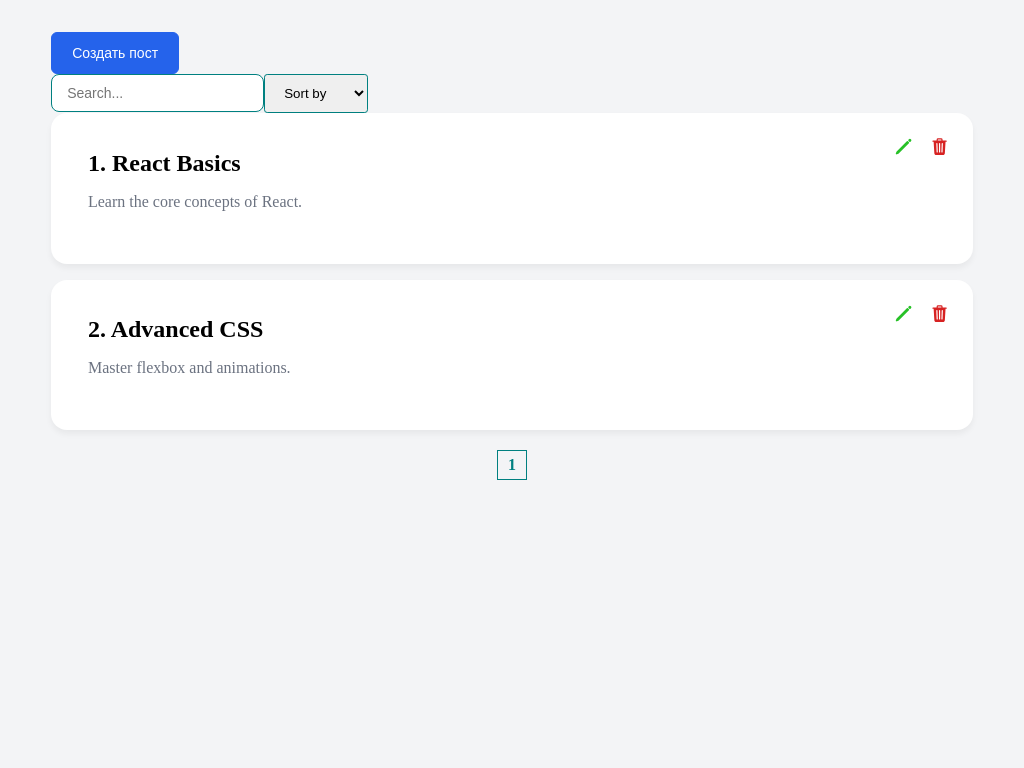
Test: Posts Component › opens modal and adds a new post
expect the heading "1. React Basics" is shown: met, box [88,150,241,176]
Click the button "Создать пост" at (115, 53), box [51,32,179,74]
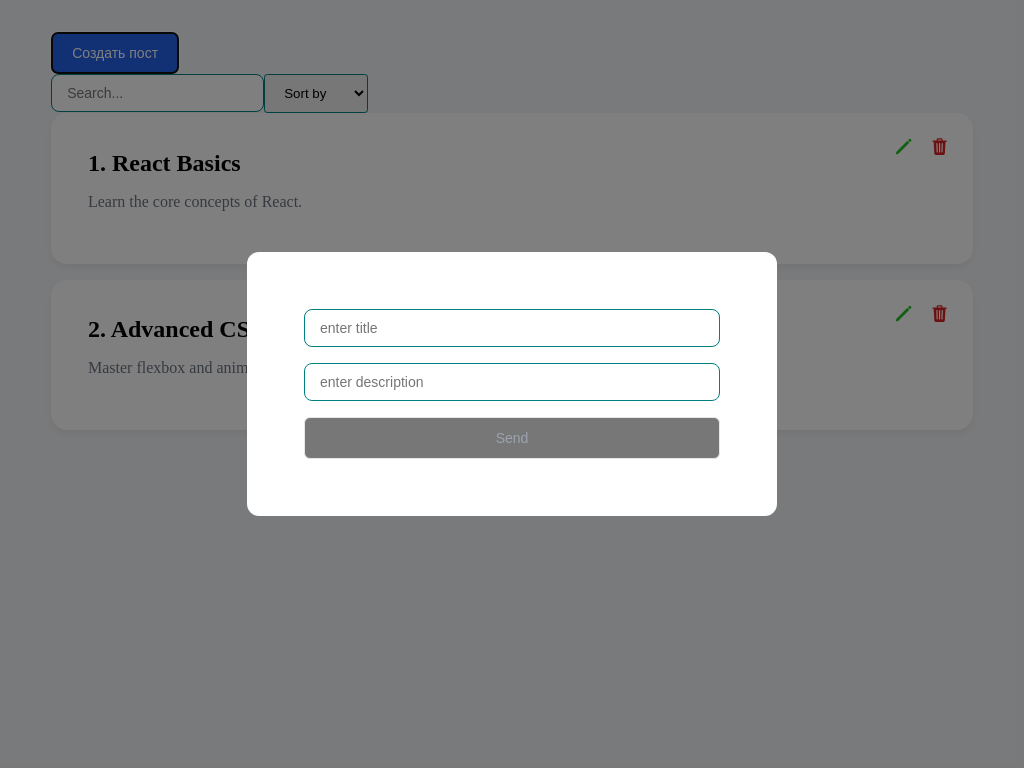
Type "Vitest Guide" into the field with placeholder "enter title" at (512, 328), box [304,309,720,347]
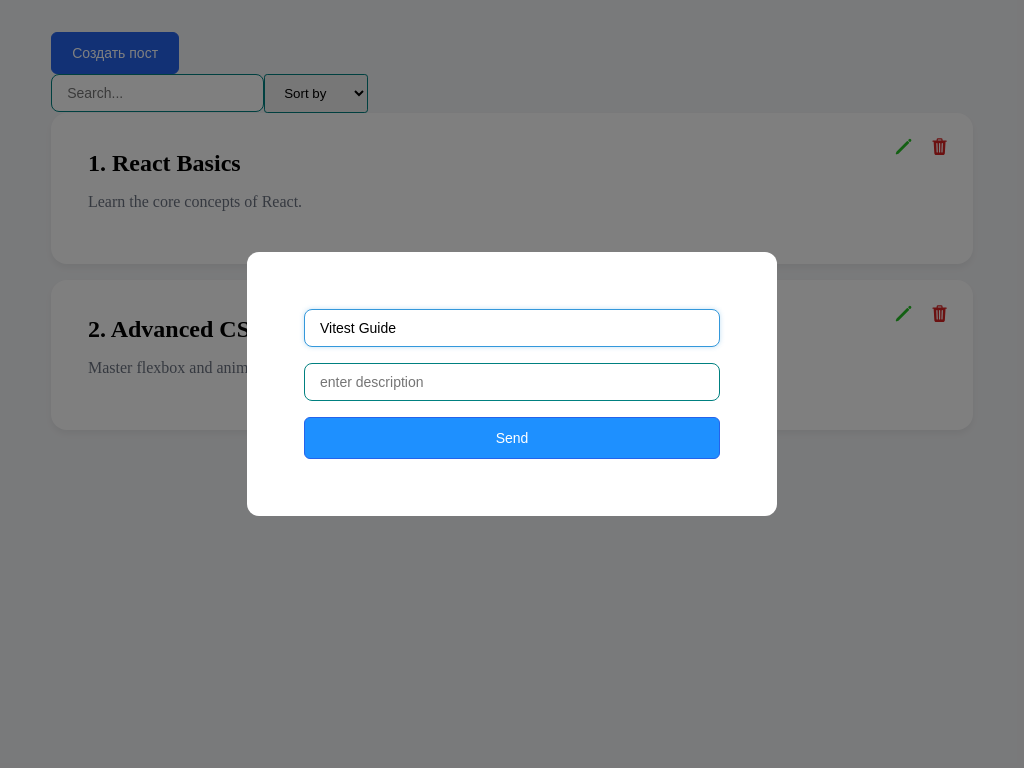
Type "Testing components with Vitest" into the field with placeholder "enter description" at (512, 382), box [304,363,720,401]
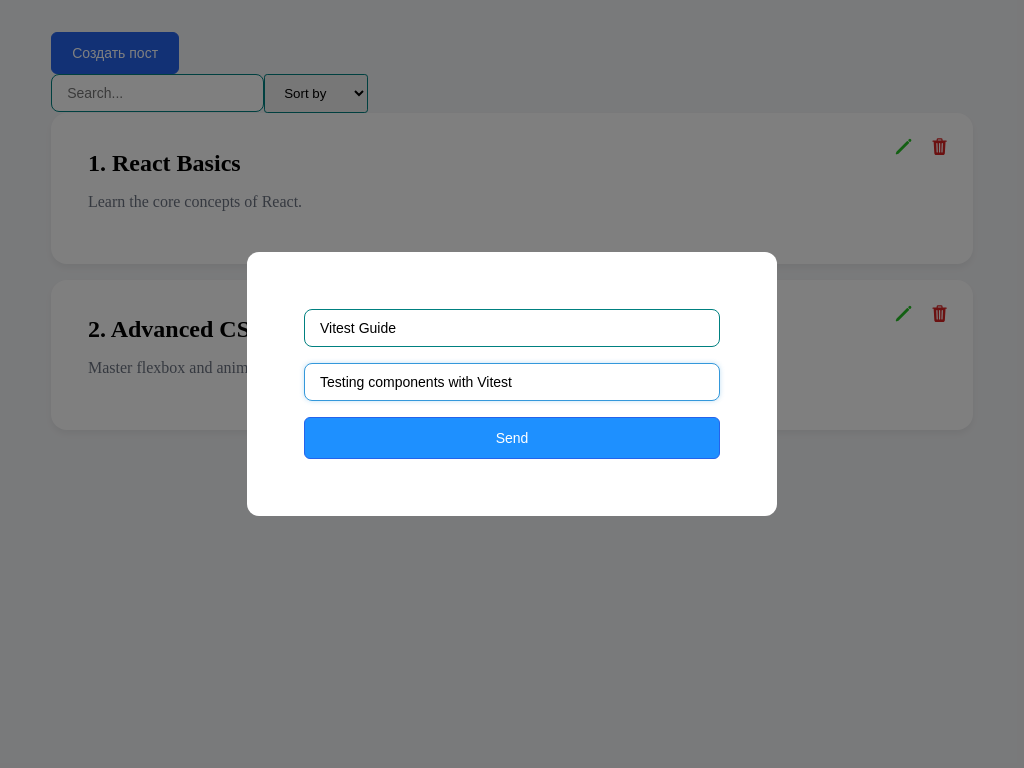
Click the button "Send" at (512, 438), box [304,417,720,459]
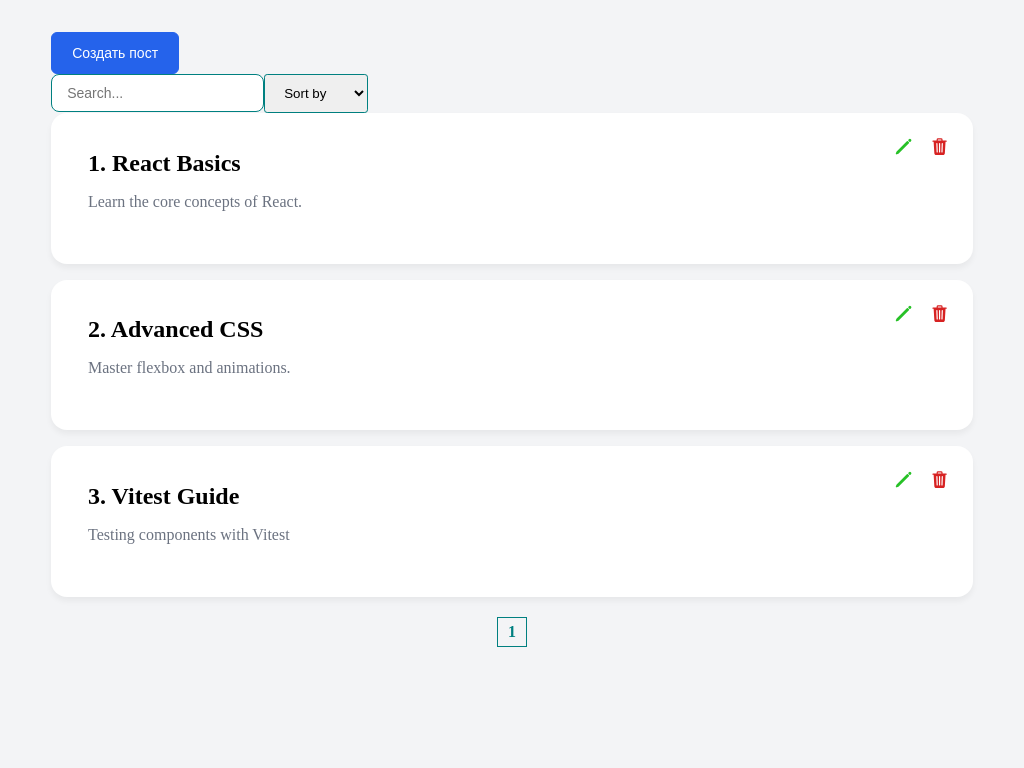
expect the heading "3. Vitest Guide" is shown: met, box [88,483,239,509]
